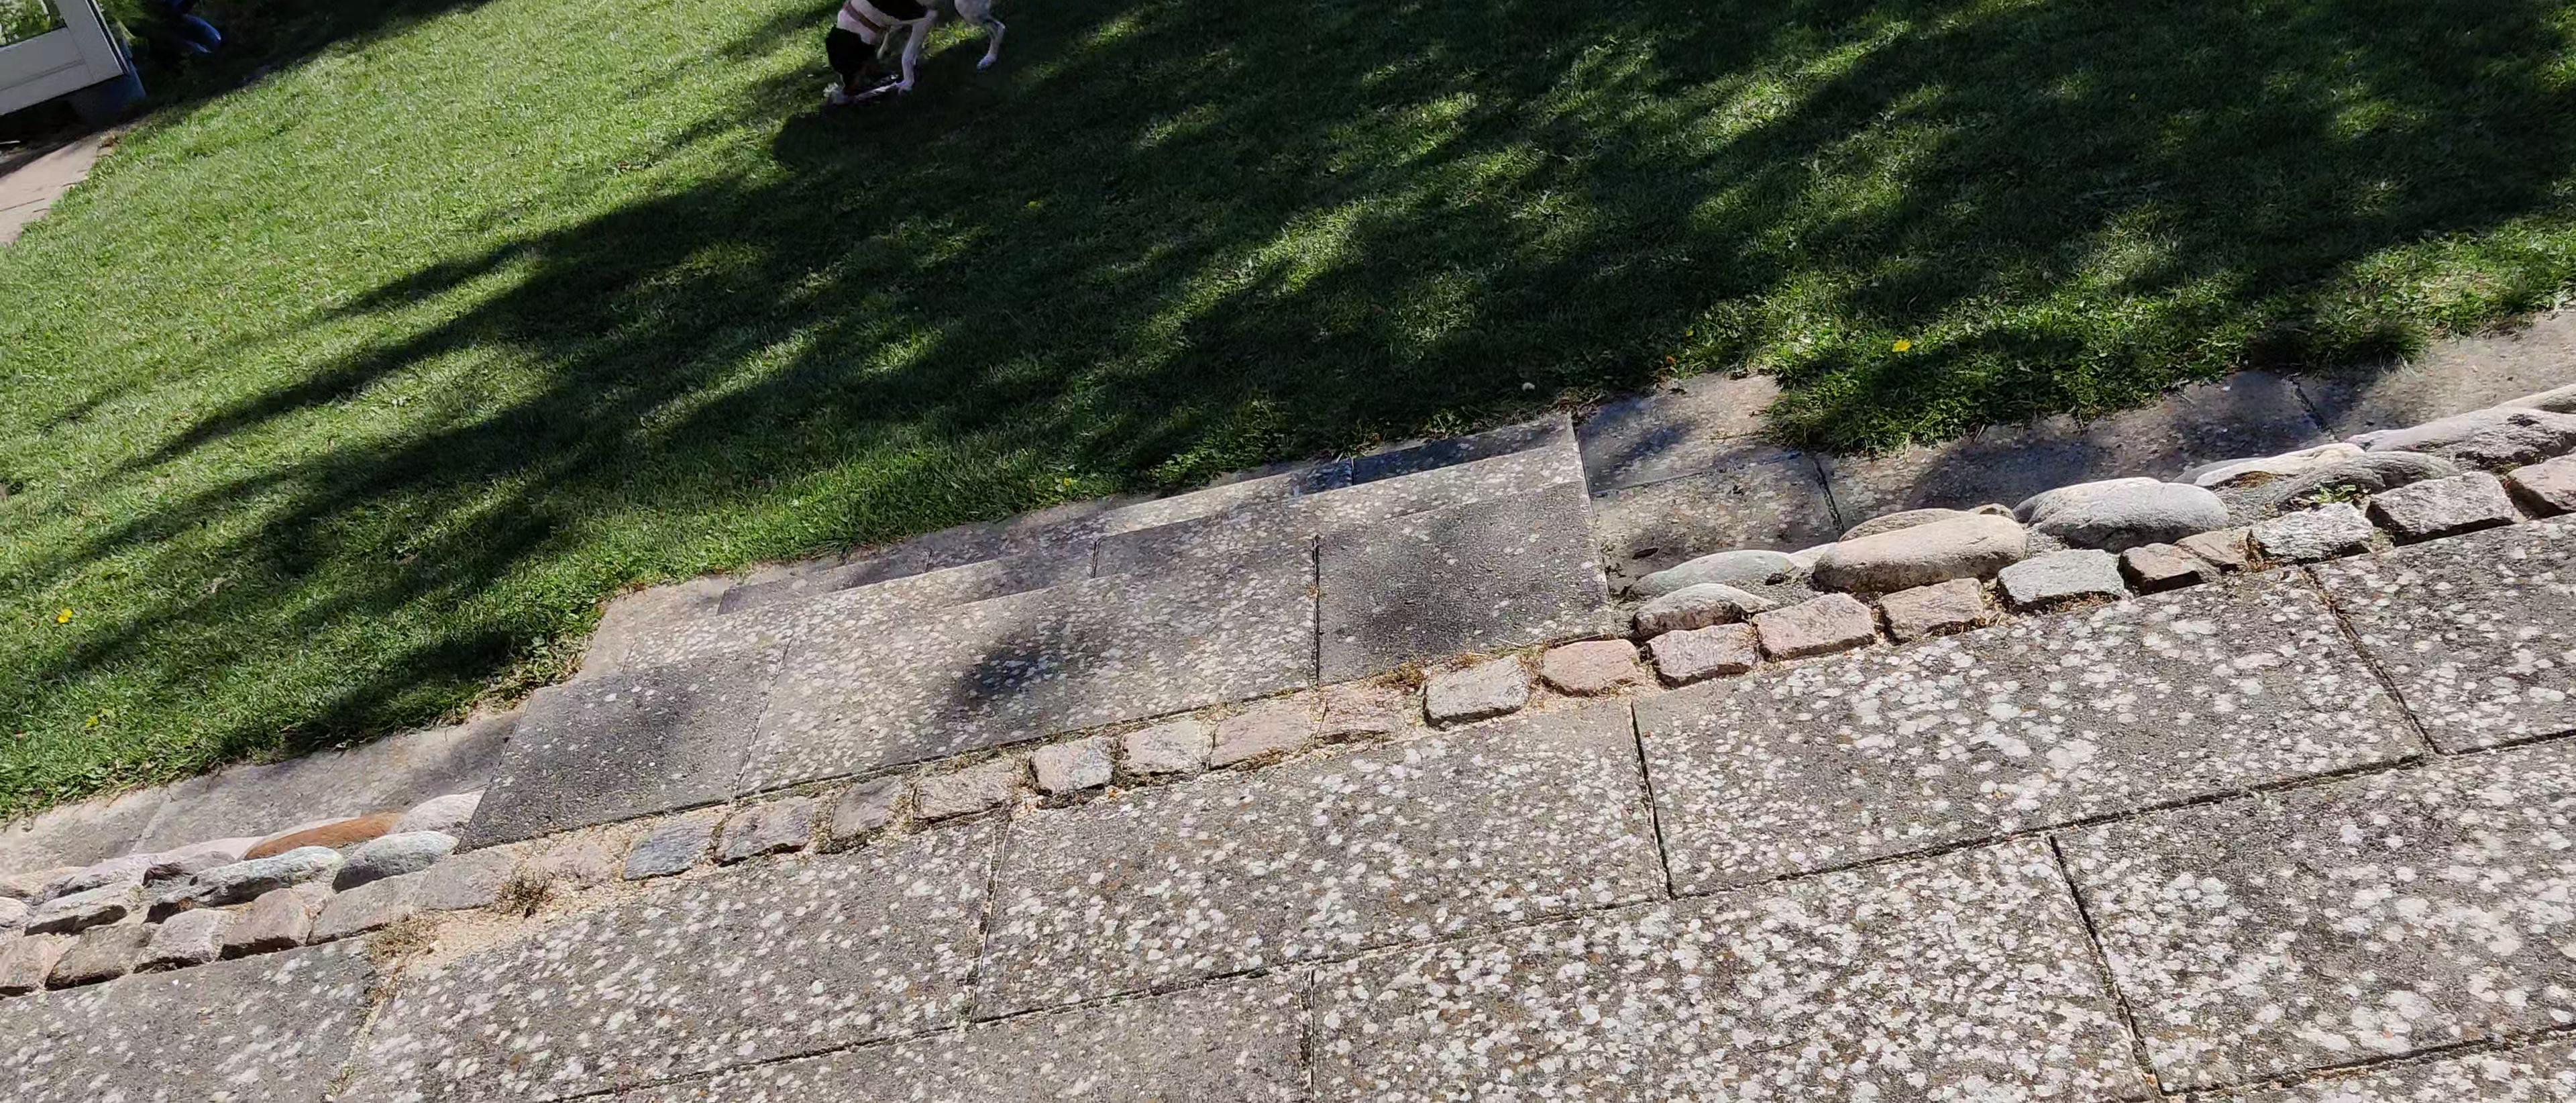Dog: (821, 0, 1007, 97)
